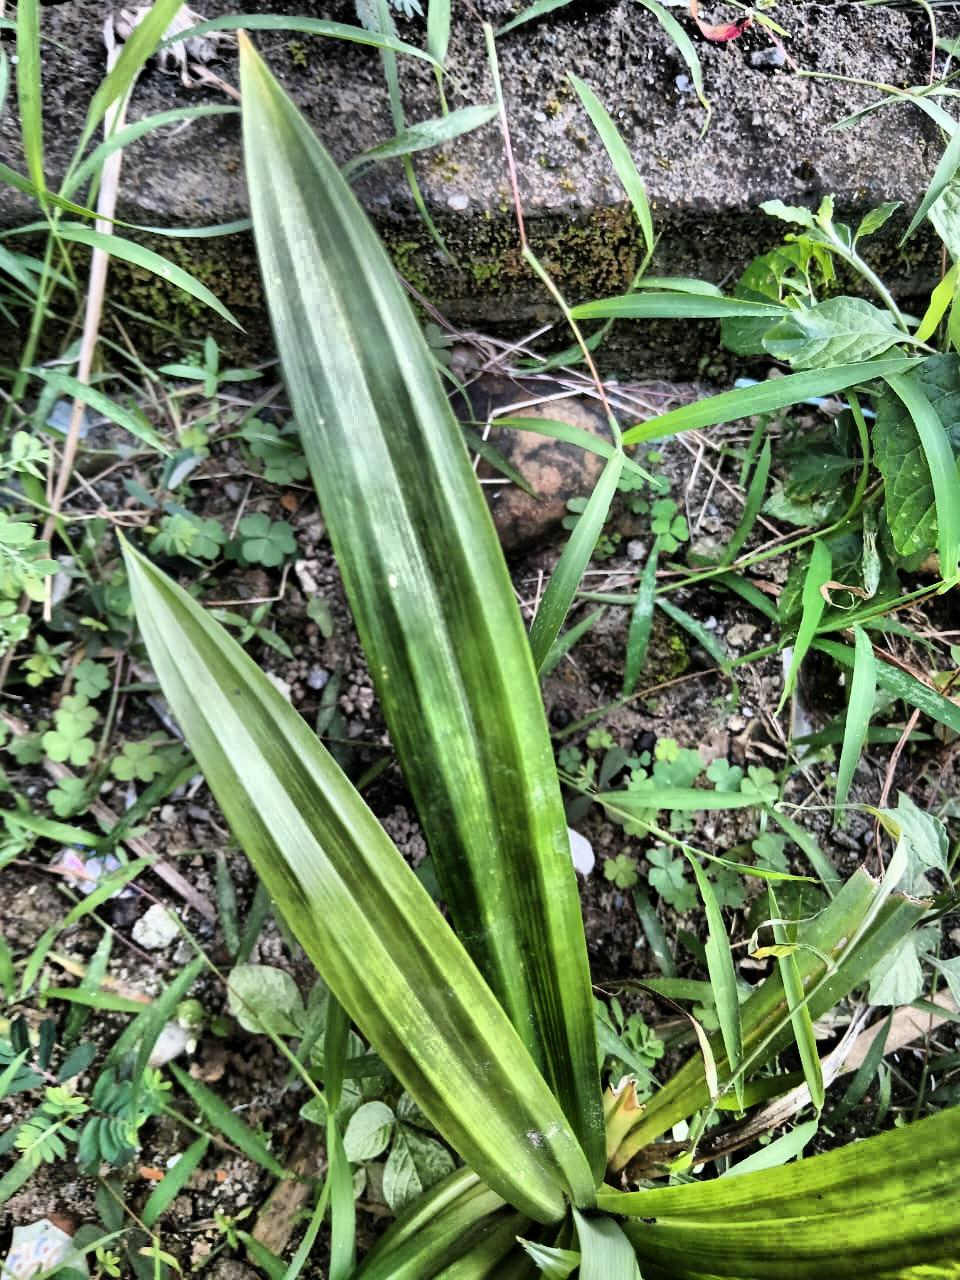daun pandan: (122, 34, 959, 1279)
